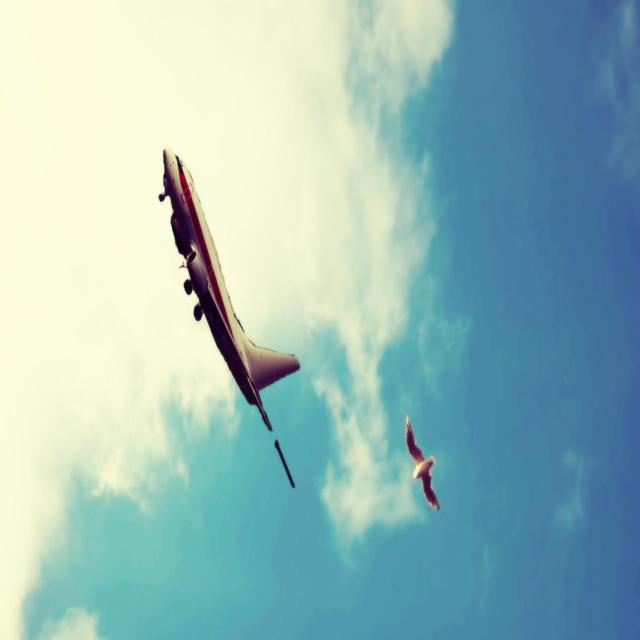airplane: (158, 146, 300, 488)
